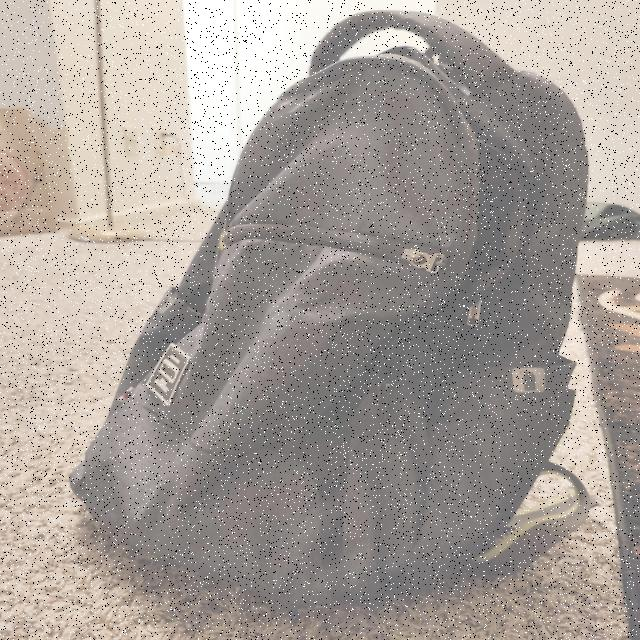bag: (82, 24, 583, 616)
